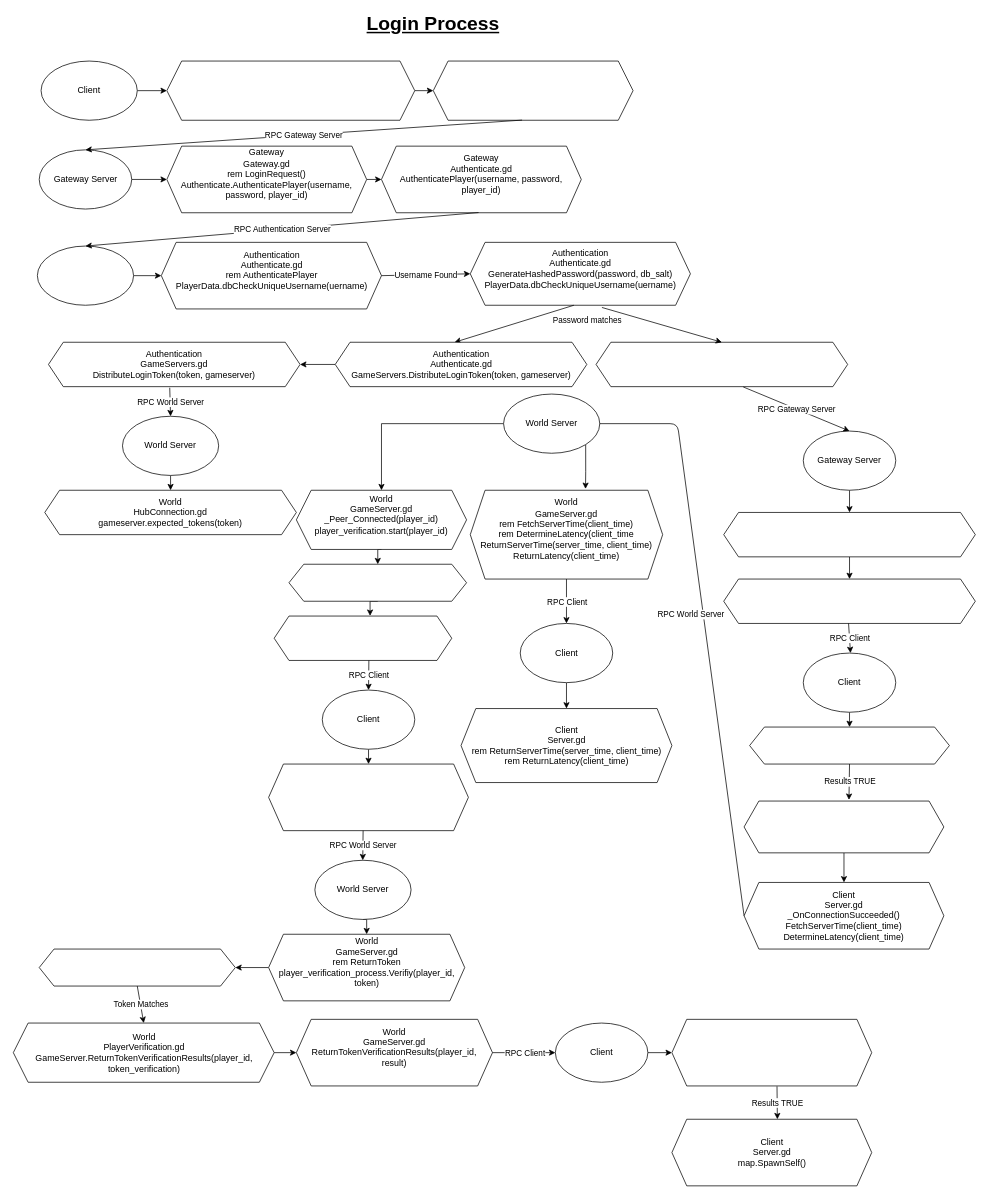
Image size: 988x1199. Some labels were removed from this diagram. Here are the shapes that lost their labels. From the top down, the centre of each, then its label:
At [290,90]: "Login screen _on_login_pressed Gateway.ConnectToServer(username, password)".
At [533,90]: "Client Gateway.gd _OnConnectionSucceeded() RequestLogin(username, password)".
At [85,275]: "Authentication Server".
At [721,364]: "Authentication Authenticate.gd AuthenticationResults(result, player_id, token)".
At [849,534]: "Gateway Authenticate.gd Gateway.ReturnLoginRequest(result, player_id, token)".
At [377,582]: "World PlayerVerification.gd GameServer.Fetch_Token(player_id)".
At [849,600]: "Gateway Gateway.gd ReturnLoginRequest(result, token)".
At [362,637]: "World GameServer.gd Fetch_Token(player_id)".
At [849,745]: "Client Gateway.gd rem ReturnLoginRequest".
At [368,797]: "Client Server.gd rem FetchToken() ReturnToken(token)".
At [843,826]: "Client Gateway.gd Server.token = token Server.ConnectToServer()".
At [136,967]: "World PlayerVerification.gd Verify(player_id, token)".
At [771,1052]: "Client Server.gd rem ReturnTokenVerificationResults(result)".
